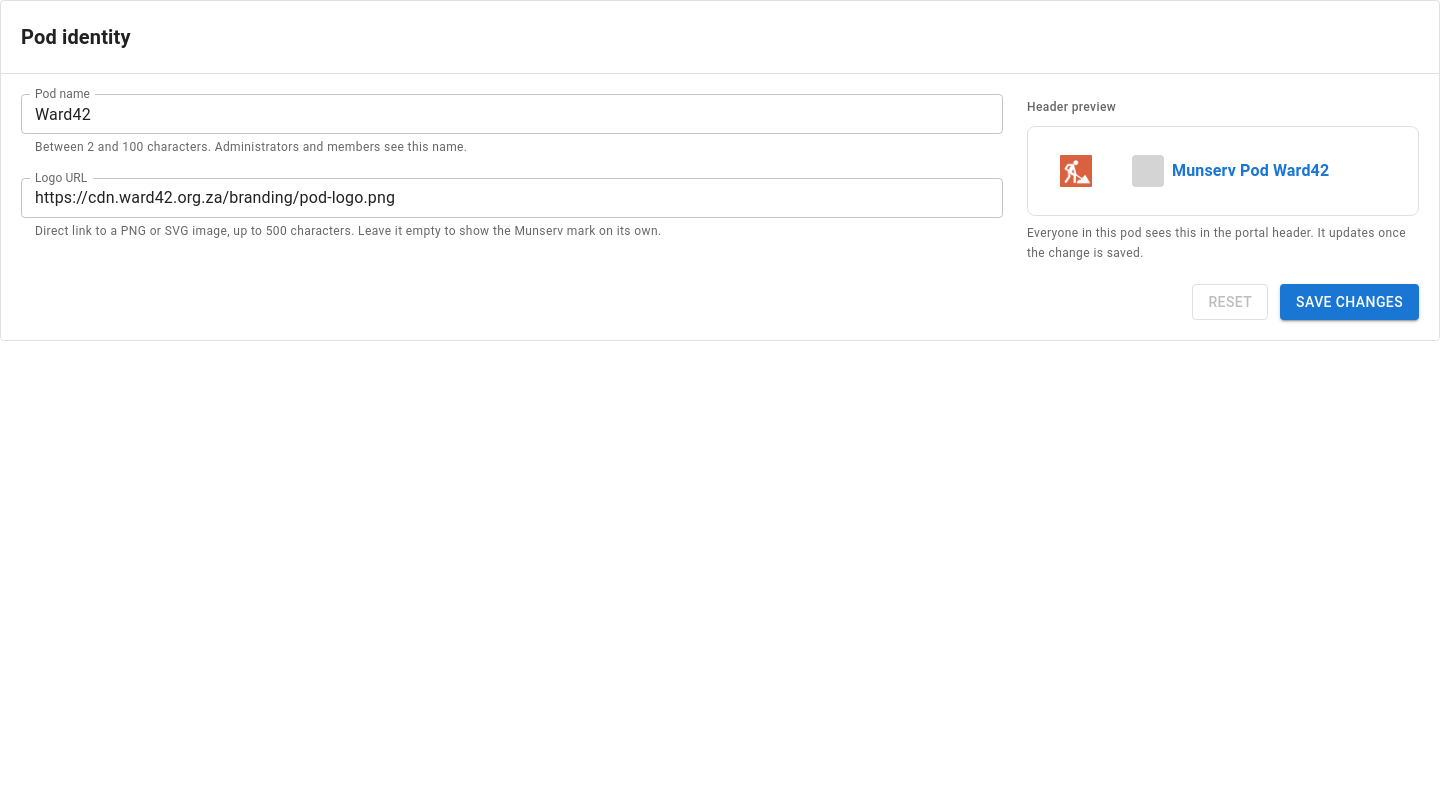
Test case: PodIdentitySection › should send only the changed name when saved
The width and height of the screenshot is (1440, 810).
Step 1. Replace the text in the field labelled "Pod name" with "Ward 42" → (512, 114), box [21, 94, 1003, 134]
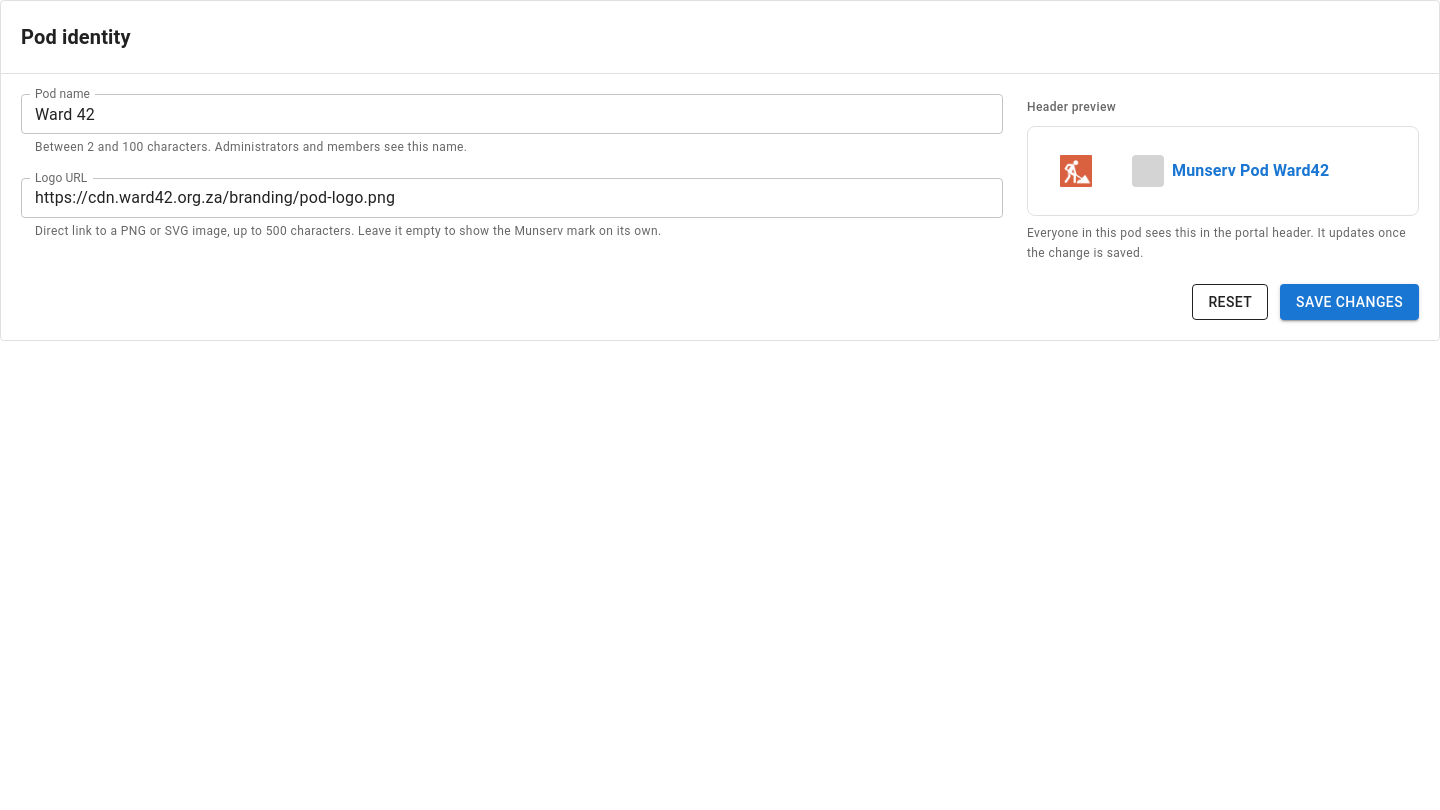
Step 2. Click the button "Save changes" → (1350, 302), box [1280, 284, 1419, 320]
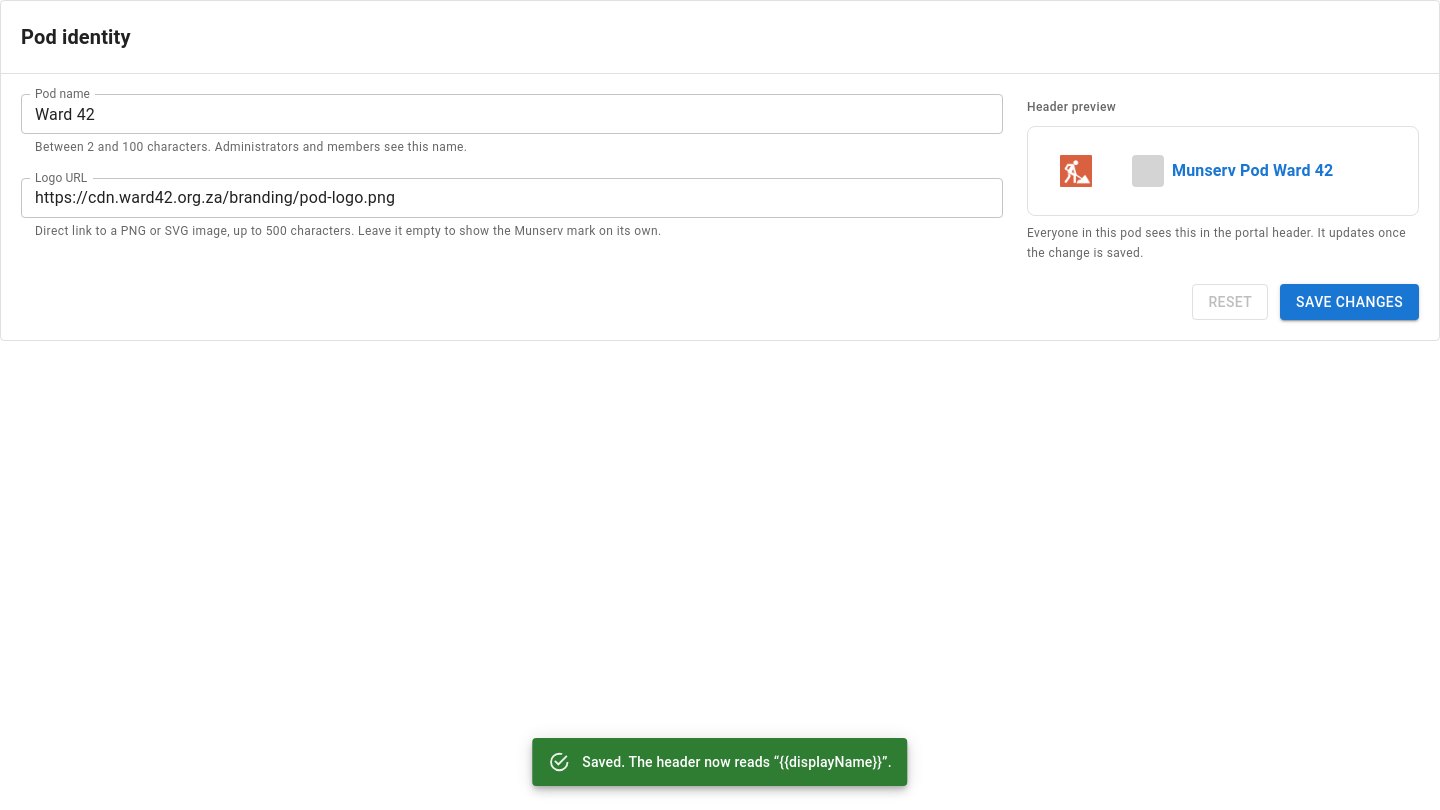
Result: the text "Saved. The header now reads “{{displayName}}”." is shown at [582, 754, 892, 770]
